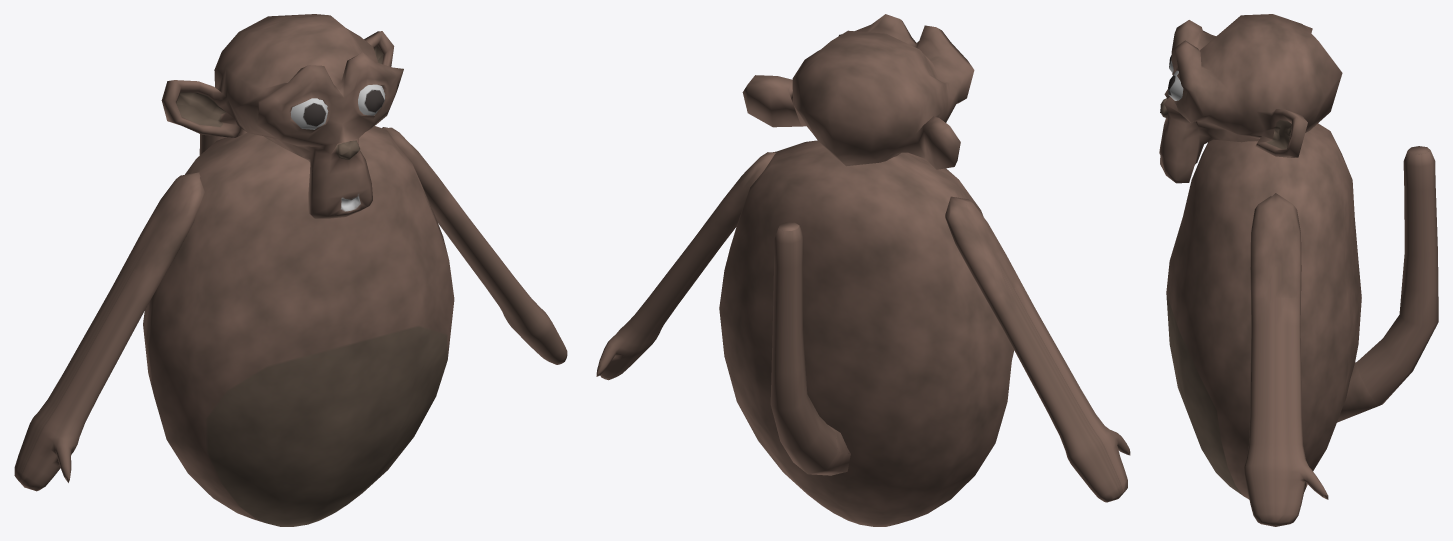
Rendered from Macaco.fbx.
The picture shows the model from 3 angles, left to right: view 1: azimuth 30°, elevation 25°; view 2: azimuth 150°, elevation 25°; view 3: azimuth 270°, elevation 25°; orthographic projection. The views are drawn at different scales.
Visible parts, largest first — view 1: Cylinder.002; view 2: Cylinder.002; view 3: Cylinder.002.
Part boxes in pixels (<box>): Cylinder.002: <box>14,14,567,526</box>; Cylinder.002: <box>596,14,1130,526</box>; Cylinder.002: <box>1159,14,1438,526</box>.
Bounding box in the file's own units: 180 × 158 × 86.32.
1 material, 1 textured.
